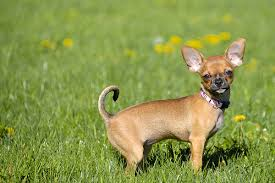chihuahua: (75, 31, 259, 169)
